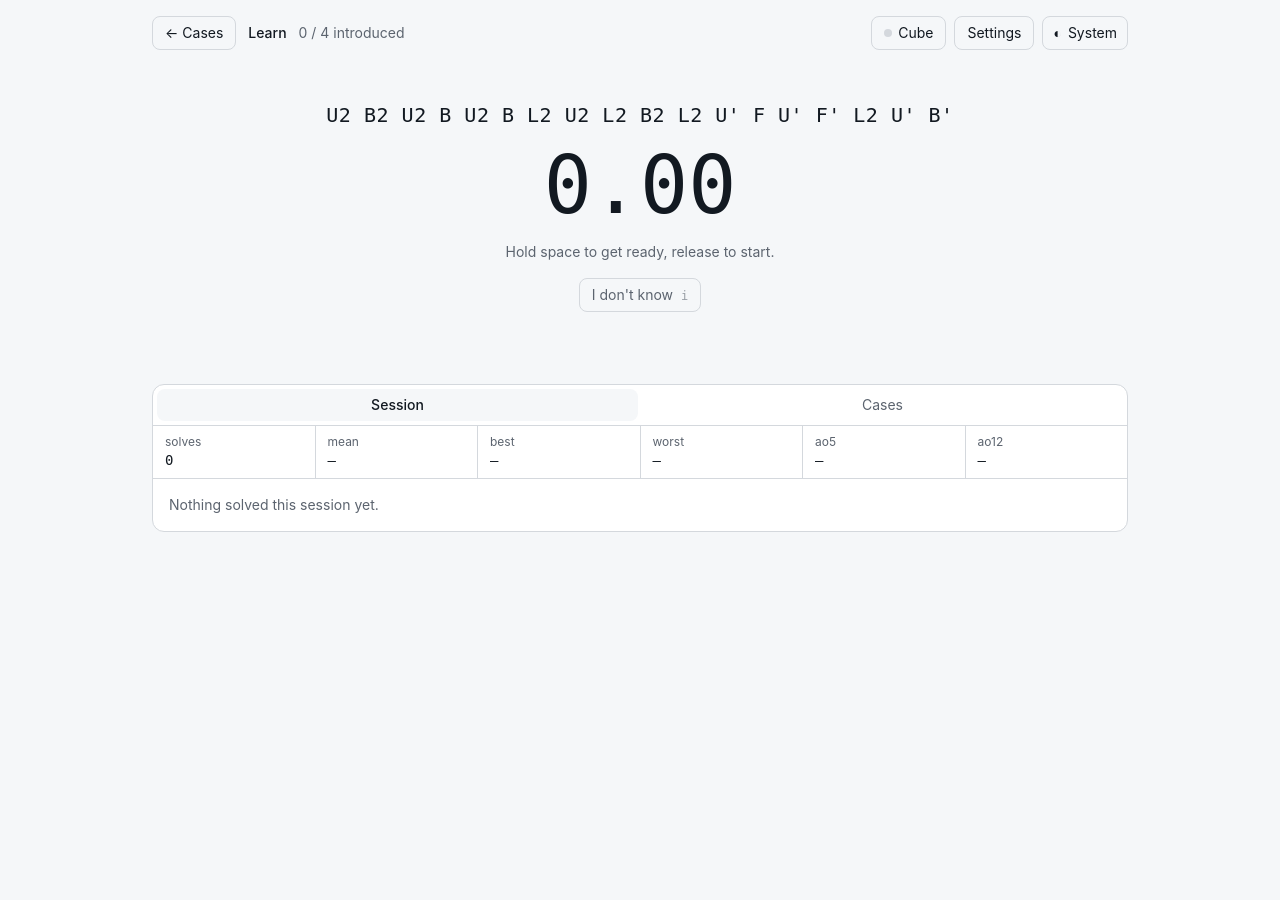
Test case: I don't know › offers an undo when the blank itself is deleted
The width and height of the screenshot is (1280, 900).
Click the button with test id "dont-know": (640, 294) [579,278,701,312]
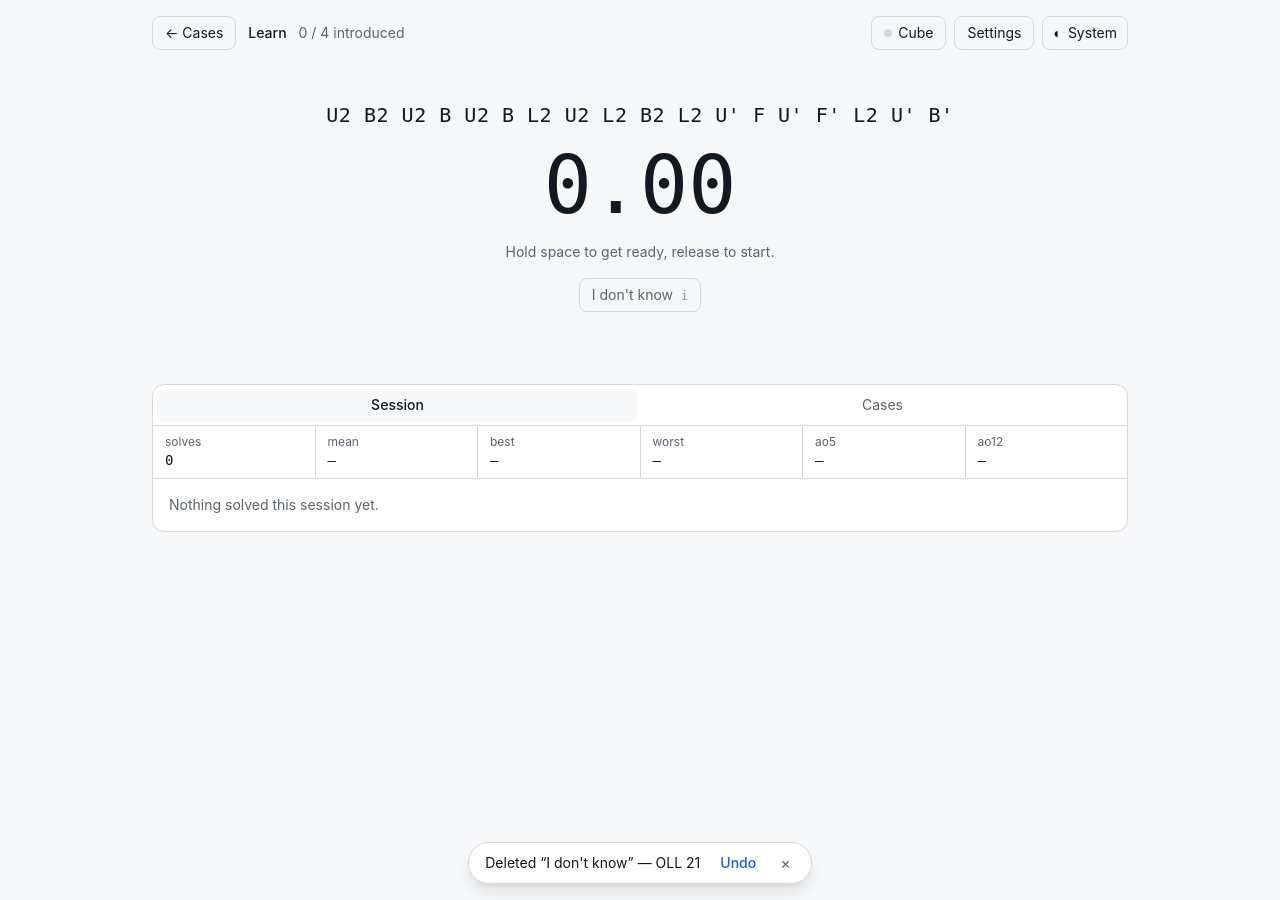
Check: the message with test id "undo-toast" shows "I don't know", box [485,854,700,871]
